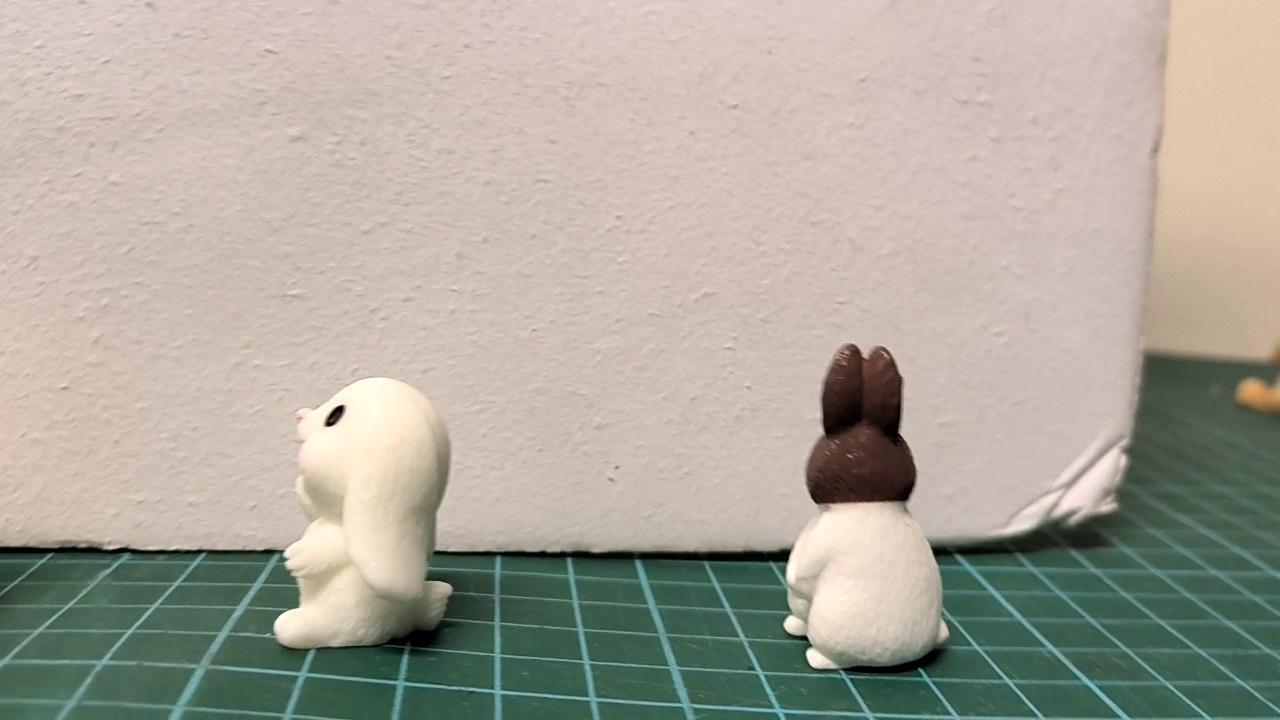pet: (782, 344, 951, 671), (275, 378, 453, 648)
